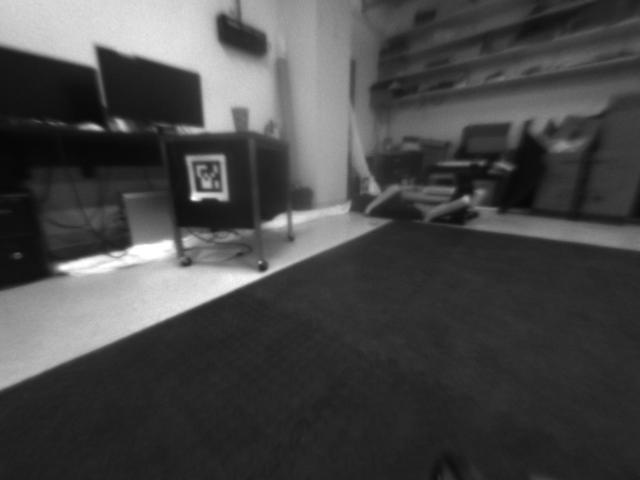coffee_cup: (227, 106, 254, 131)
